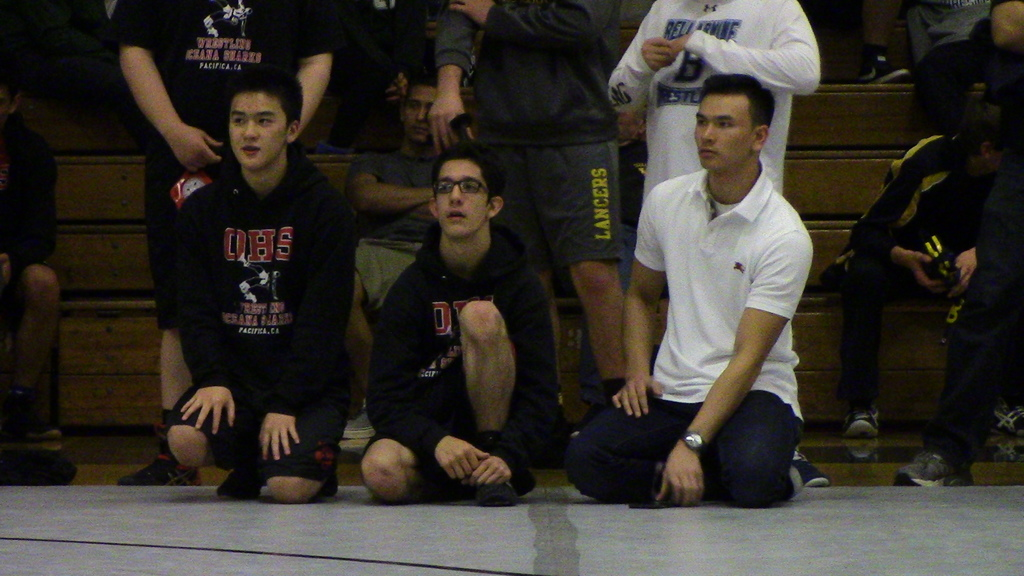Person: (883, 0, 994, 187)
